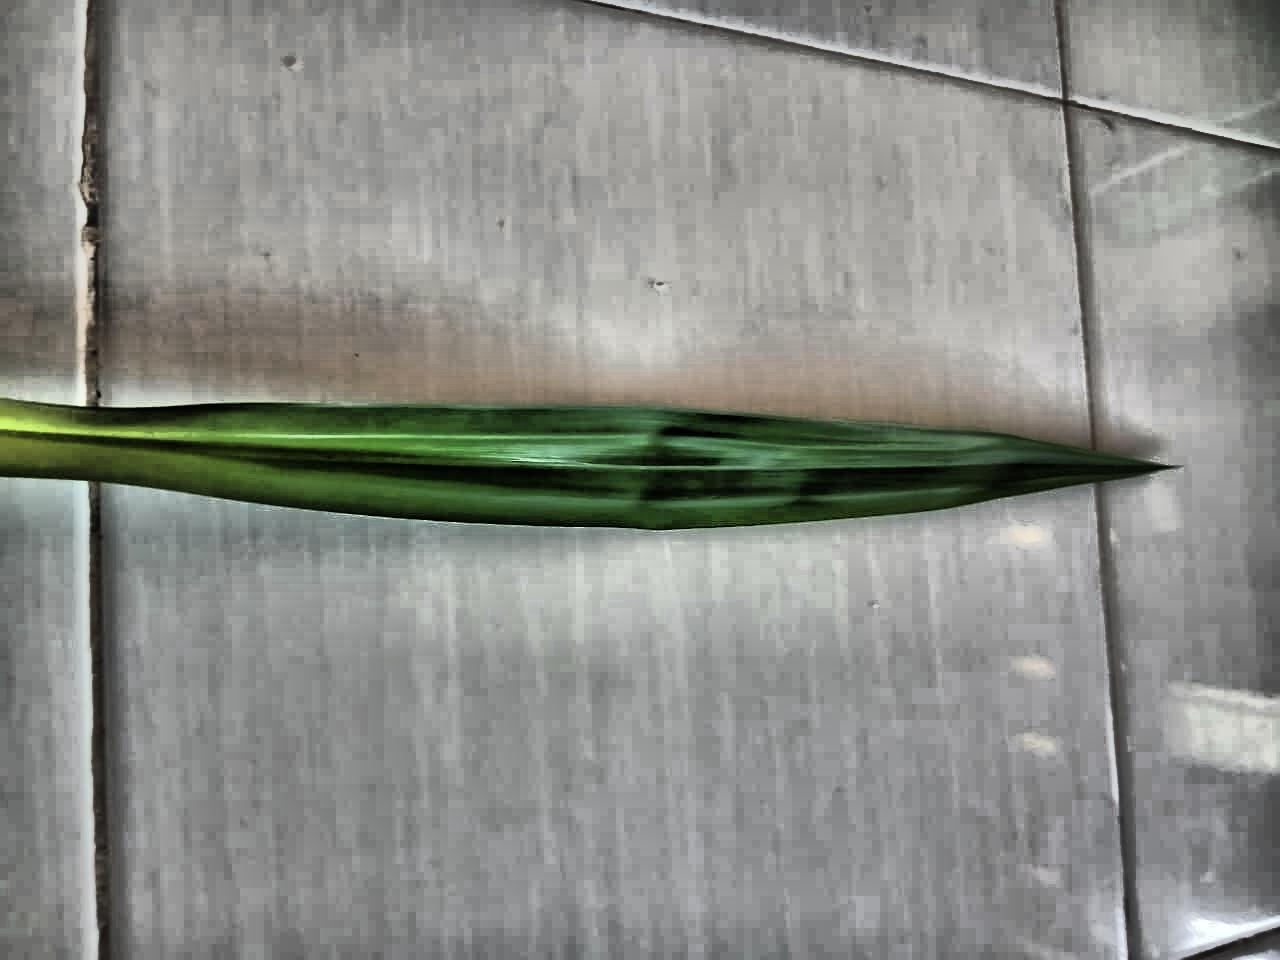daun pandan: (0, 399, 1165, 529)
